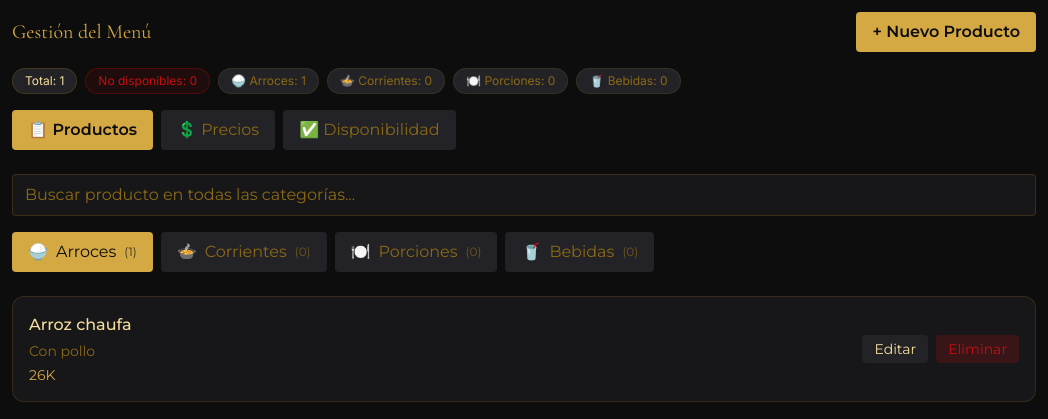
el botón Guardar de precios está deshabilitado si el precio no cambió
Click the button "💲 Precios" at {"x": 218, "y": 130}, box [161,110,275,150]
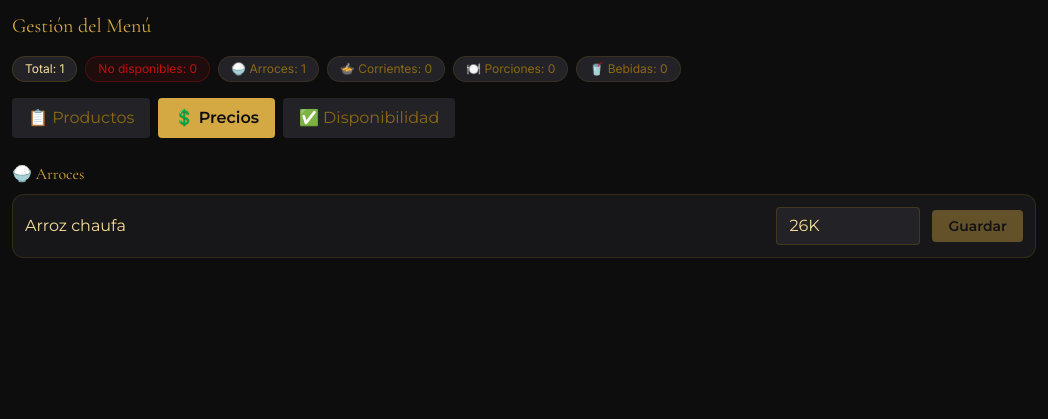
Result: the button "Guardar" is disabled at [932,210,1023,242]
Replace the text in the field named "Nuevo precio de Arroz chaufa" with "28K" at {"x": 848, "y": 226}, box [776,207,920,245]
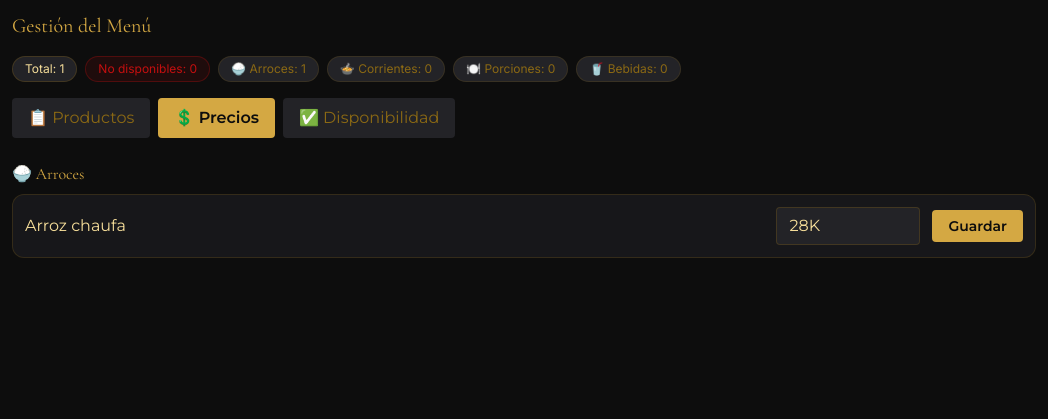
Result: the button "Guardar" is enabled at [932,210,1023,242]
